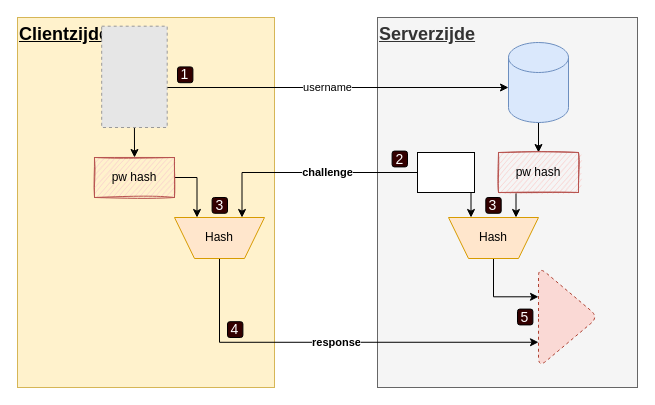
The diagram is 655 pixels wide and 405 high, and some of its shapes have lost their labels. Grey dashed boxes stand in for pictures. Each missing label, with the centre of its shape:
"Gelijk?" belongs at point (568, 317).
"password db" belongs at point (538, 82).
"random challenge" belongs at point (445, 172).
